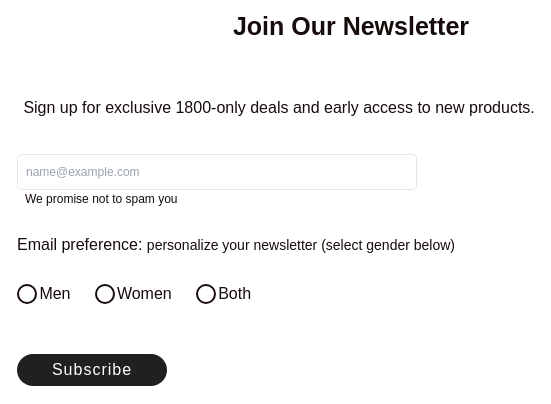
Test case: testing the subscribe form › check error message is present when button is clicked
This screenshot has width=551, height=404.
Step 1. Click the button with test id "btn" → (92, 370), box [17, 354, 167, 386]
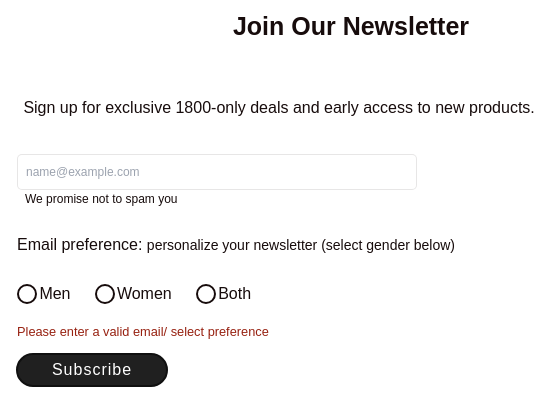
Expected: the text "Please enter a valid email/ select preference" is shown, [17, 324, 269, 339]
